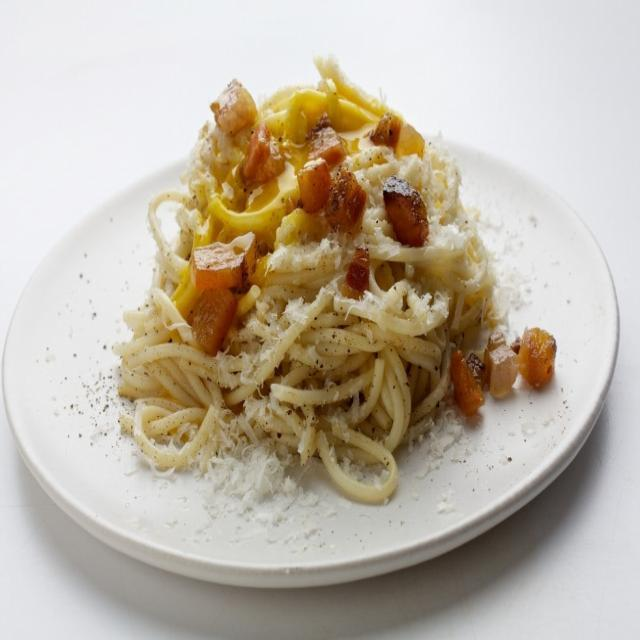Pasta with carbonara sauce: (95, 53, 631, 521)
